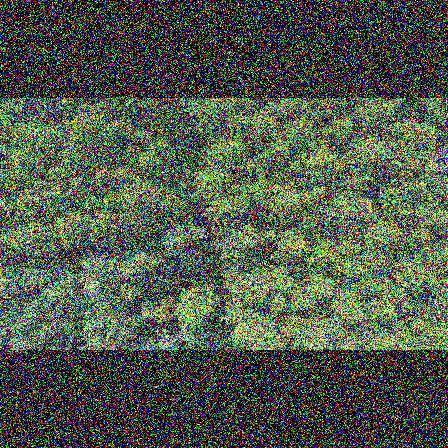Dead: (432, 143, 448, 172)
